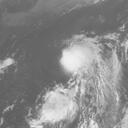cyclone: (60, 36, 98, 73)
